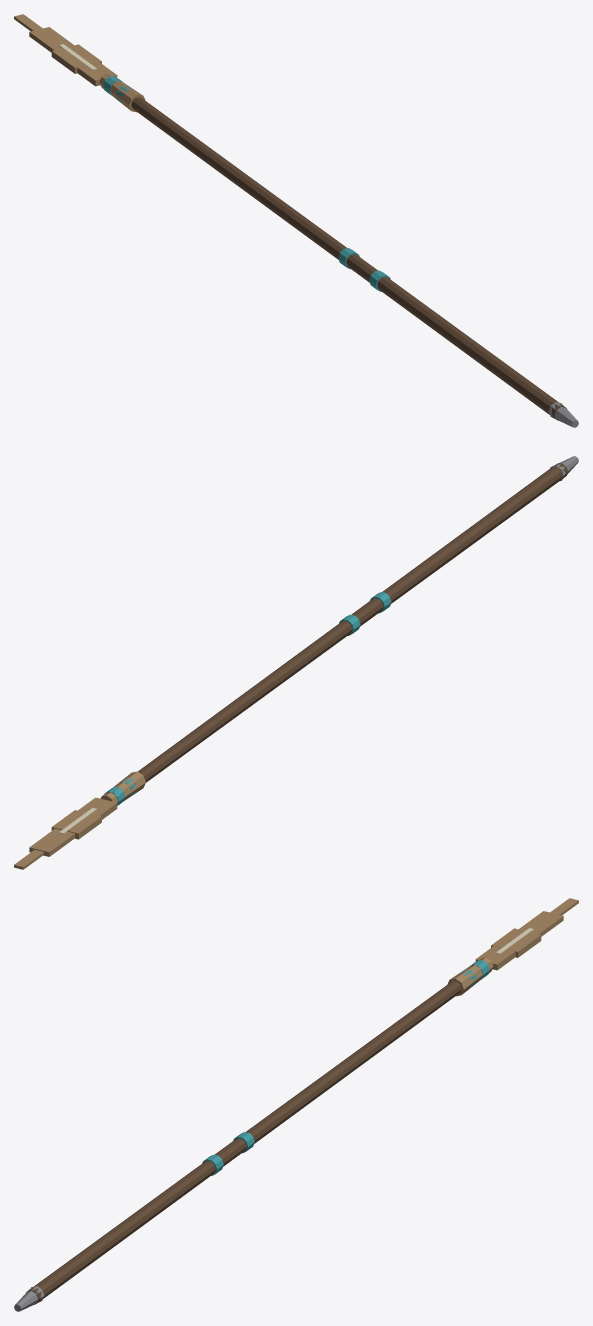
The model's file is SM_Spear.glb.
3 views of the same model, one above another, from view 1: azimuth 30°, elevation 25°; view 2: azimuth 150°, elevation 25°; view 3: azimuth 330°, elevation 25° (orthographic).
Parts seen in each view (by area): view 1: SM_Spear; view 2: SM_Spear; view 3: SM_Spear.
Part boxes in pixels (box(x1,y1,x2,y2)): SM_Spear: box(14, 14, 578, 427); SM_Spear: box(14, 456, 578, 869); SM_Spear: box(14, 898, 578, 1311).
Bounding box in the file's own units: 0.06 × 0.038 × 2.15.
